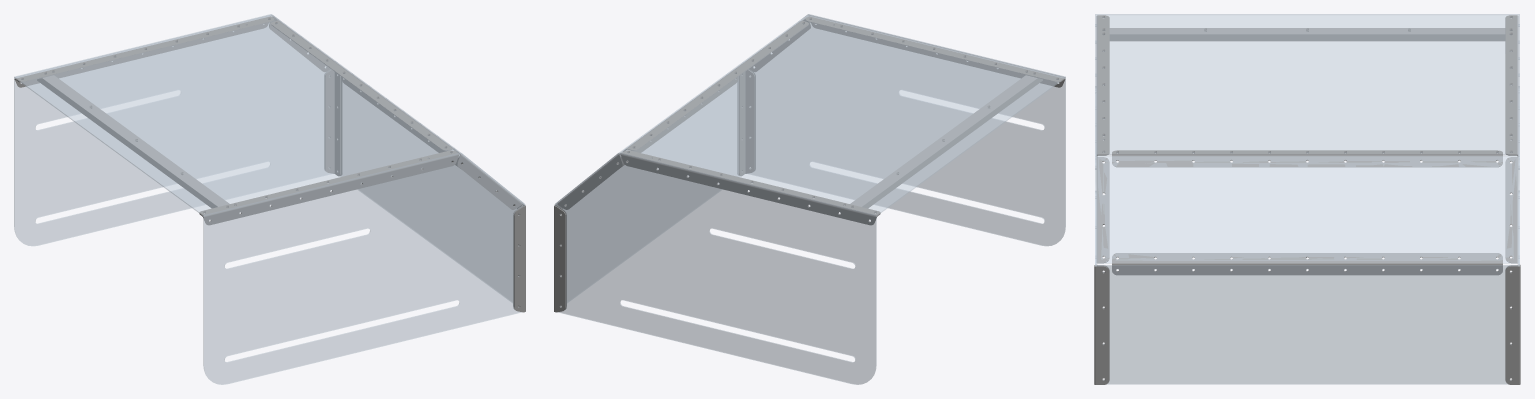
The model's file is 2910-hopper.glb.
3 renders of one model, left to right at view 1: azimuth 30°, elevation 25°; view 2: azimuth 150°, elevation 25°; view 3: azimuth 270°, elevation 25°, orthographic. The views are drawn at different scales.
Visible parts, largest first — view 1: 61-01-03, 61-01-05; view 2: 61-01-03, 61-01-05; view 3: 61-01-03, 61-01-05.
Boxes of the visible parts, left/top/right/bottom form: 61-01-03: left=14, top=14, right=525, bottom=384; 61-01-05: left=14, top=16, right=525, bottom=312; 61-01-03: left=554, top=14, right=1065, bottom=384; 61-01-05: left=554, top=16, right=1065, bottom=312; 61-01-03: left=1095, top=14, right=1519, bottom=384; 61-01-05: left=1094, top=15, right=1520, bottom=384.
Bounding box in the file's own units: 0.6872 × 0.3556 × 0.7044.
